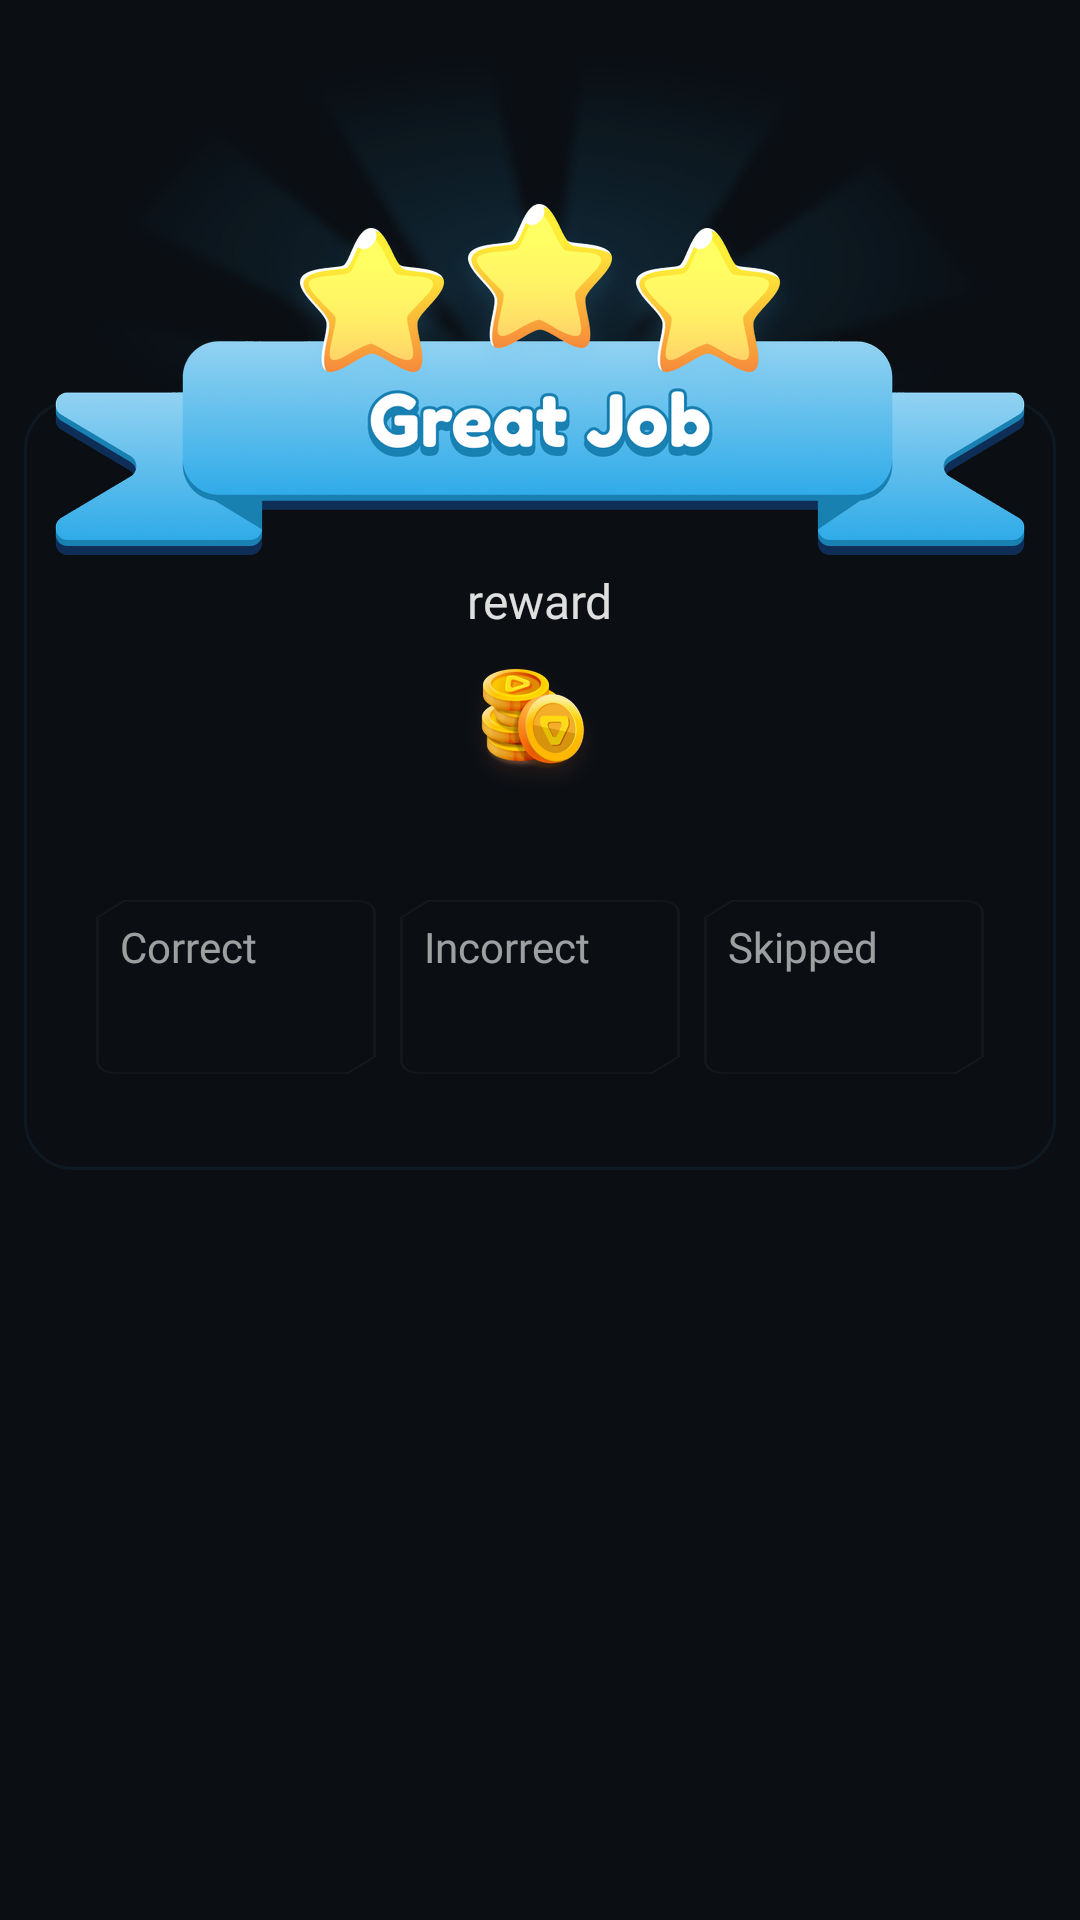

Where icons sit on this 1080*1920 app screen, as (x1, y1, x2, y2):
coins: (481, 669, 584, 768)
